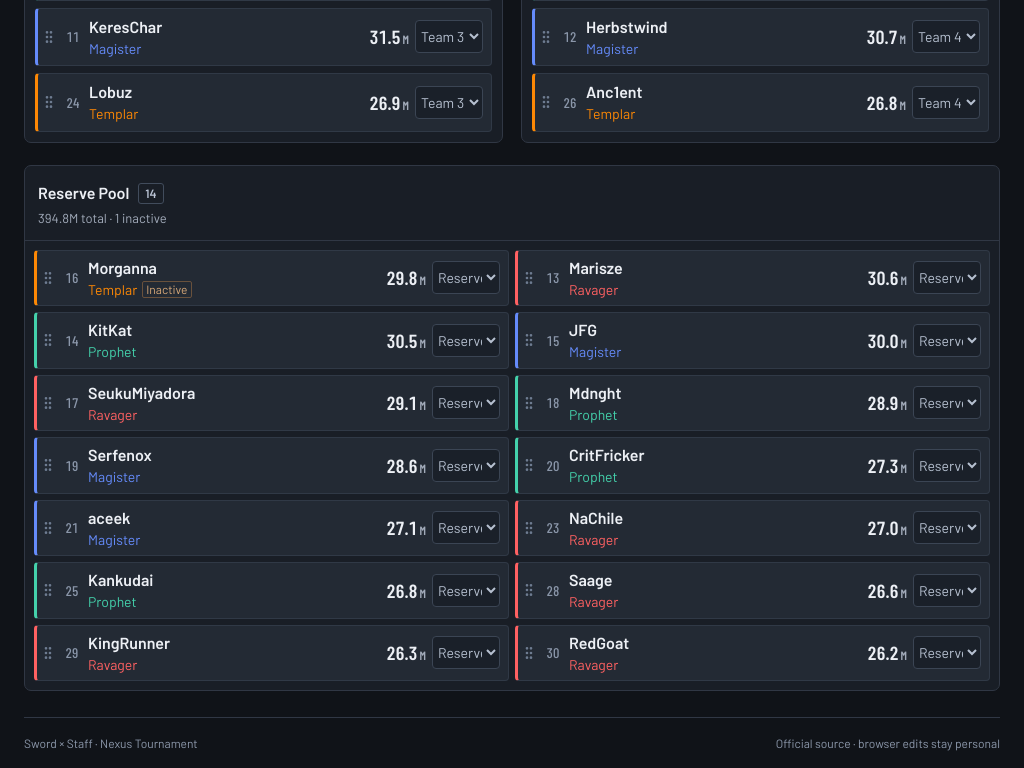
Scenario: full team selector rejection gives understandable feedback
(page scrolled)
Select "Team 1" in the dropdown named "Move Mdnght" at (947, 403), box [913,386,981,419]
(page scrolled)
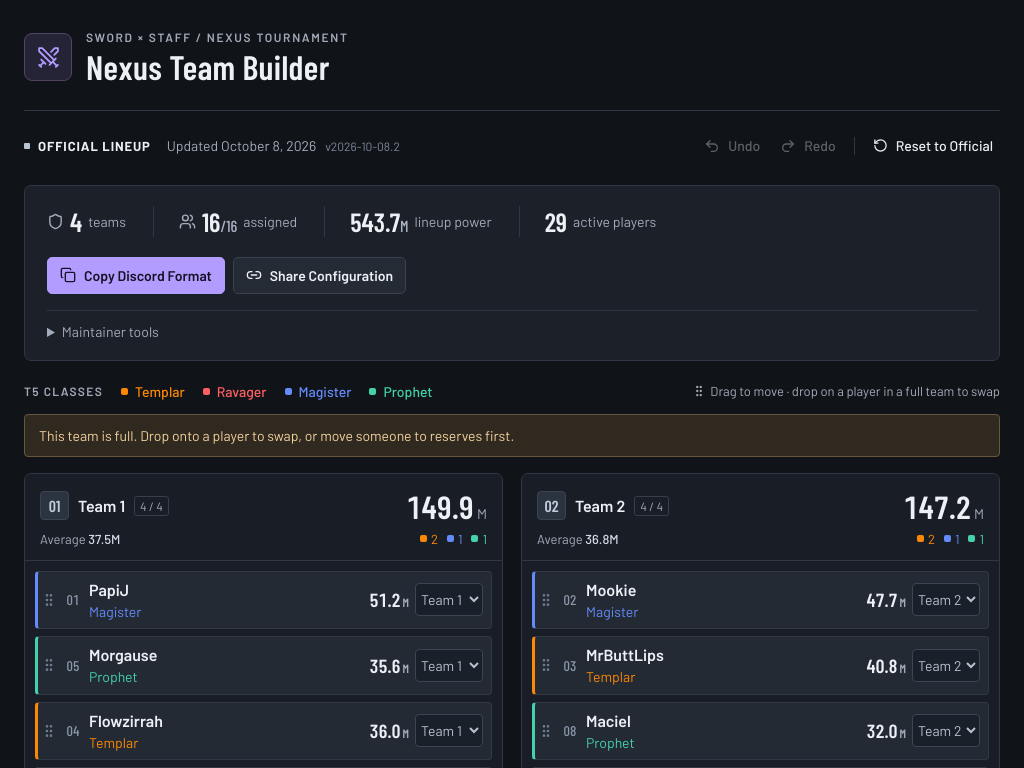
Expected: the text "OFFICIAL LINEUP" is shown, [24,138,151,154]
Expected: the message named "Lineup feedback" shows "full", [39,427,514,444]
